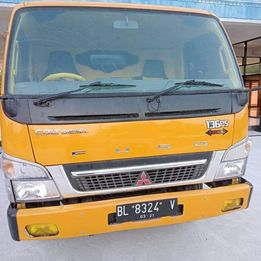plate: (113, 201, 182, 219)
